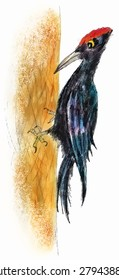bird: (25, 24, 116, 224)
